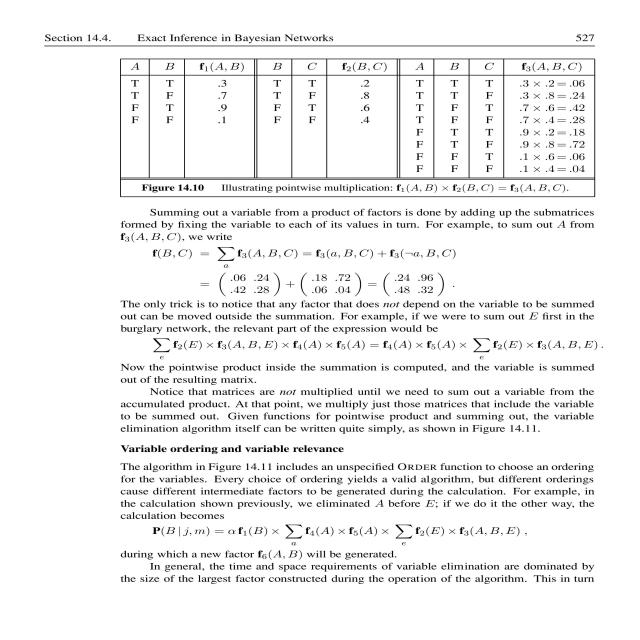diagram: (84, 50, 640, 201)
